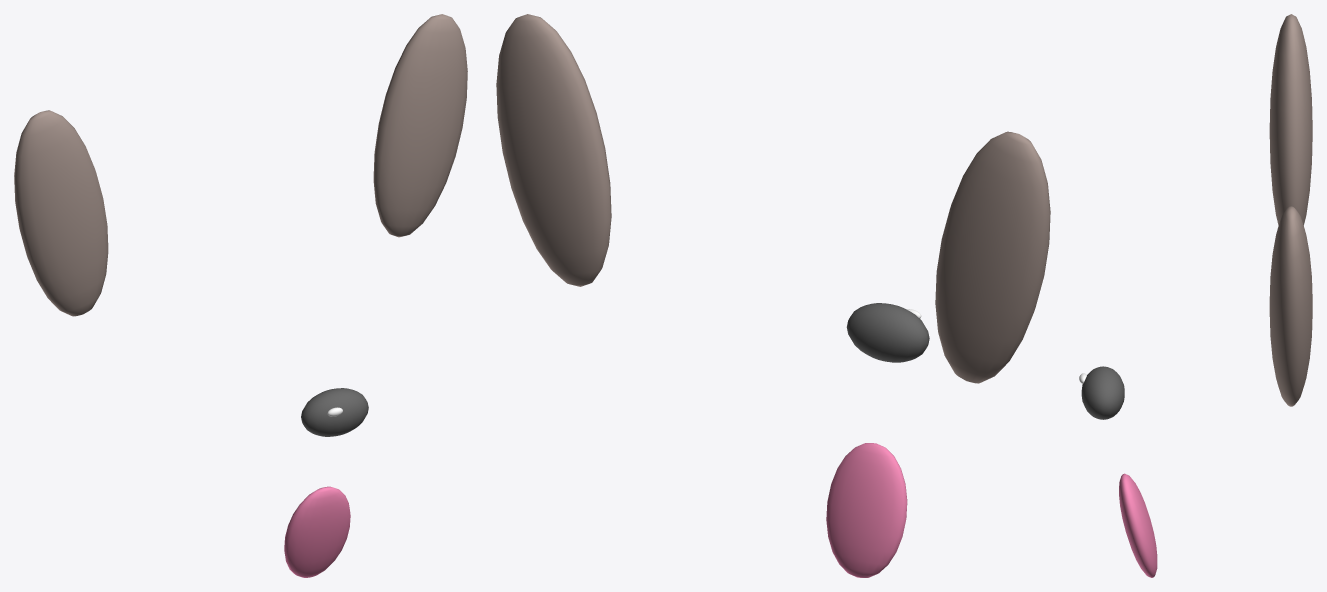
The model's file is dog.glb.
3 views of the same model, side by side, from view 1: azimuth 30°, elevation 25°; view 2: azimuth 150°, elevation 25°; view 3: azimuth 270°, elevation 25° (orthographic). The views are drawn at different scales.
Parts seen in each view (by area): view 1: ears, tongue@mouthOpen, nose; view 2: ears, tongue@mouthOpen, nose; view 3: ears, tongue@mouthOpen, nose.
Boxes of the visible parts, bbox=[...] form: ears: bbox=[14, 14, 467, 316]; tongue@mouthOpen: bbox=[284, 486, 350, 577]; nose: bbox=[301, 388, 368, 436]; ears: bbox=[496, 14, 1050, 383]; tongue@mouthOpen: bbox=[826, 443, 907, 577]; nose: bbox=[846, 303, 929, 362]; ears: bbox=[1269, 14, 1312, 406]; tongue@mouthOpen: bbox=[1119, 473, 1157, 577]; nose: bbox=[1081, 366, 1124, 419].
Bounding box in the file's own units: 2.39 × 2.34 × 1.07.
